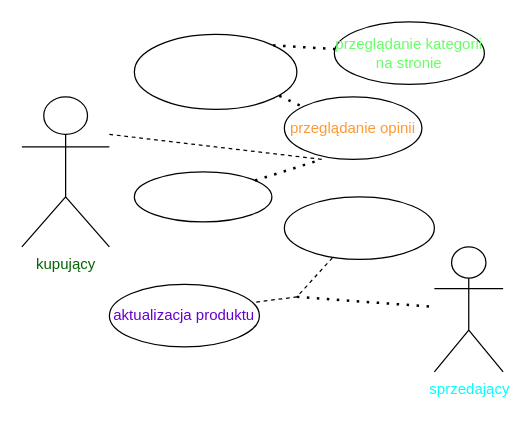
Image size: 530x439. Some labels were removed from this diagram. Here are the shapes that lost their labels. From the top down, the centre of each, then its label:
the point at 215,71: wyszukiwanie odpowiedniego produktu
the point at 202,196: wystawienie opini
the point at 358,227: analizowanie rynku
